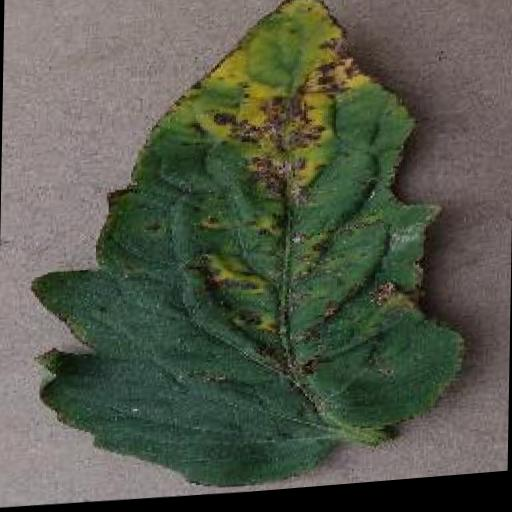Bacterial Spot: (25, 0, 472, 510)
